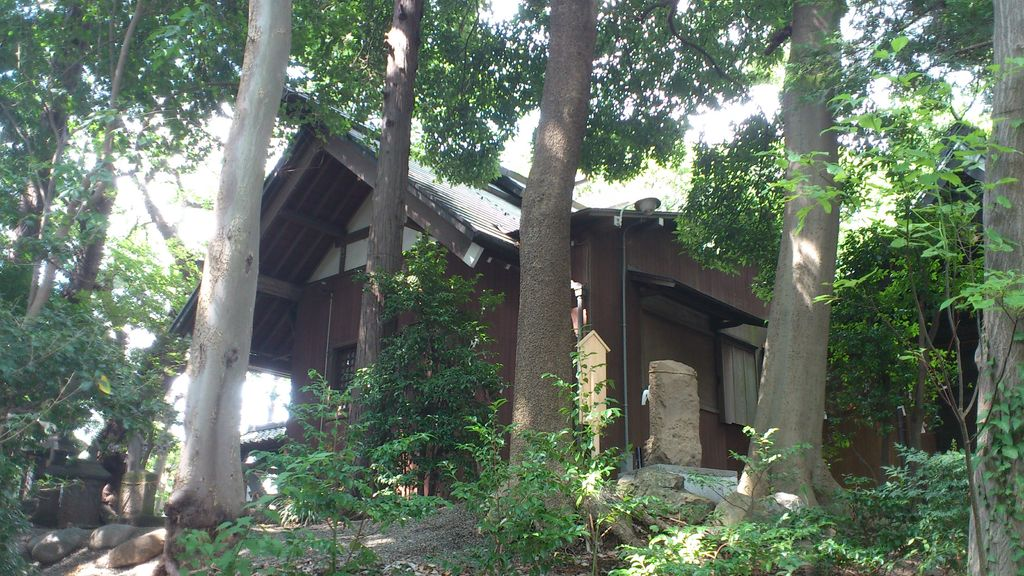Tree: (104, 0, 400, 575), (676, 0, 929, 545), (503, 0, 741, 526), (326, 0, 536, 517), (822, 28, 1020, 565), (842, 0, 1023, 575), (29, 0, 250, 446), (0, 0, 112, 449), (689, 104, 792, 290)
